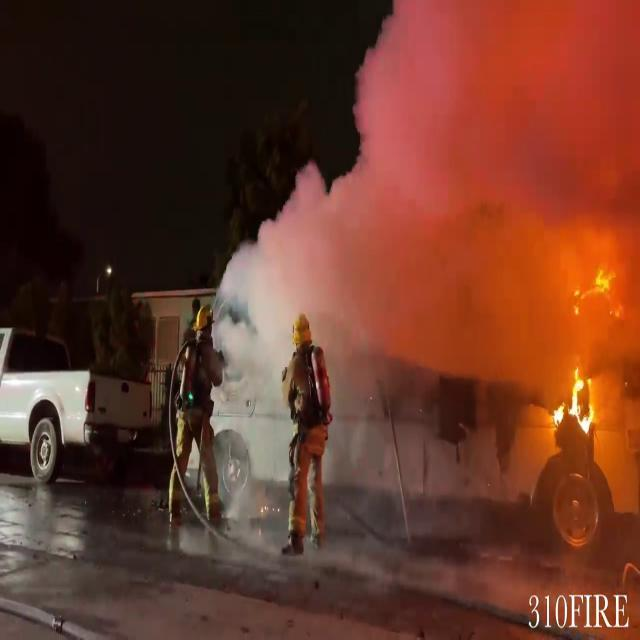Fire: (539, 363, 603, 444)
Smoke: (226, 0, 640, 391)
